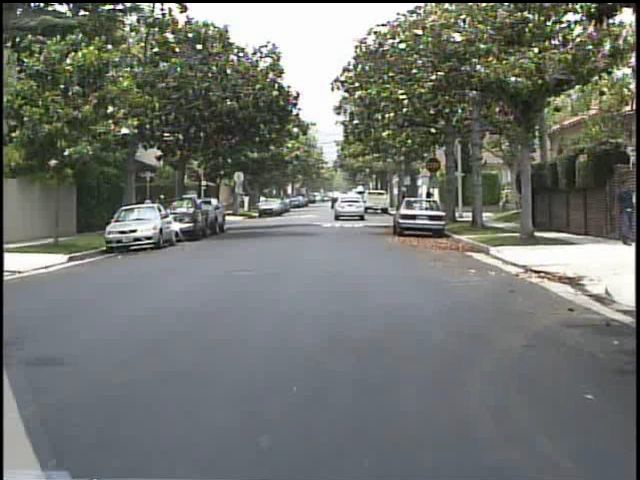person: (605, 177, 634, 250), (143, 193, 159, 229), (421, 184, 438, 214)
